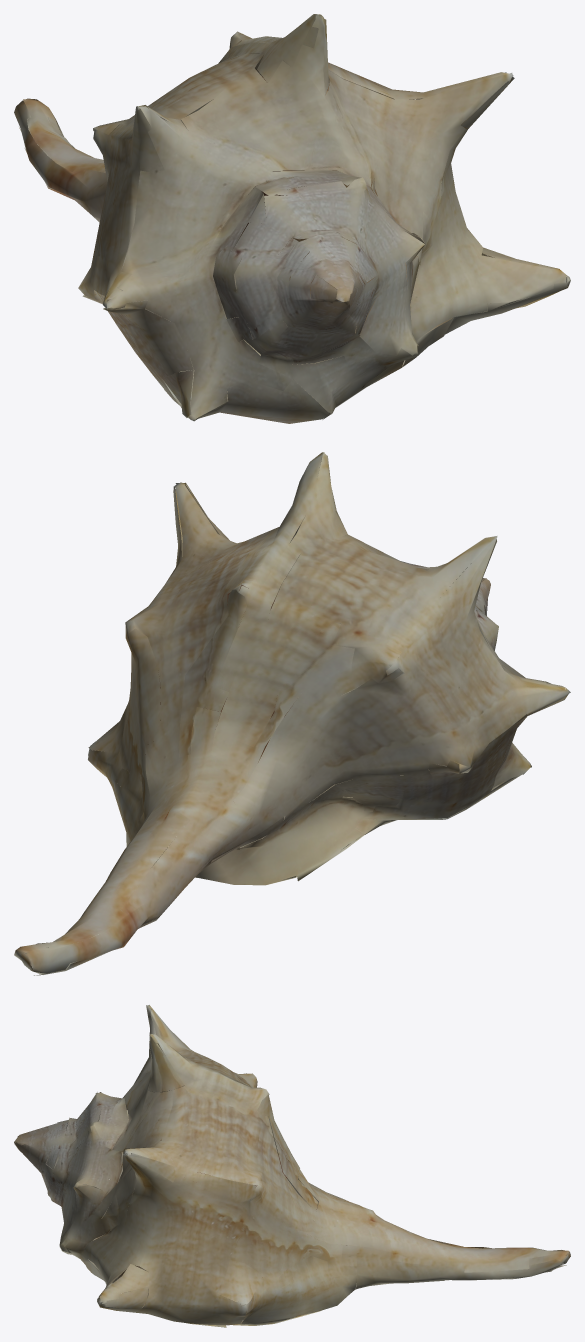
Rendered from seashell_scan.glb.
The picture shows the model from 3 angles, top to bottom: view 1: azimuth 30°, elevation 25°; view 2: azimuth 150°, elevation 25°; view 3: azimuth 270°, elevation 25°; orthographic projection. The views are drawn at different scales.
Visible parts, largest first — view 1: defaultMaterial; view 2: defaultMaterial; view 3: defaultMaterial.
Part boxes in pixels (bbox=[...]): defaultMaterial: bbox=[14, 14, 570, 423]; defaultMaterial: bbox=[14, 452, 570, 975]; defaultMaterial: bbox=[14, 1005, 570, 1327].
Size of the model in its own units: 12.7 by 9.93 by 19.8.
Materials: 1 (1 with a texture image).
